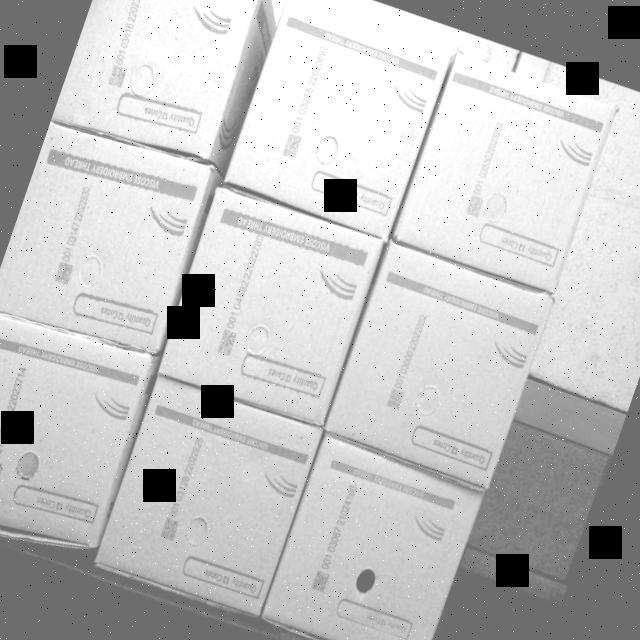box: (87, 372, 326, 632), (217, 0, 458, 244), (330, 241, 554, 488), (158, 187, 385, 426), (0, 116, 216, 363), (397, 54, 610, 290), (264, 441, 482, 640), (0, 307, 155, 569), (53, 0, 271, 167)
